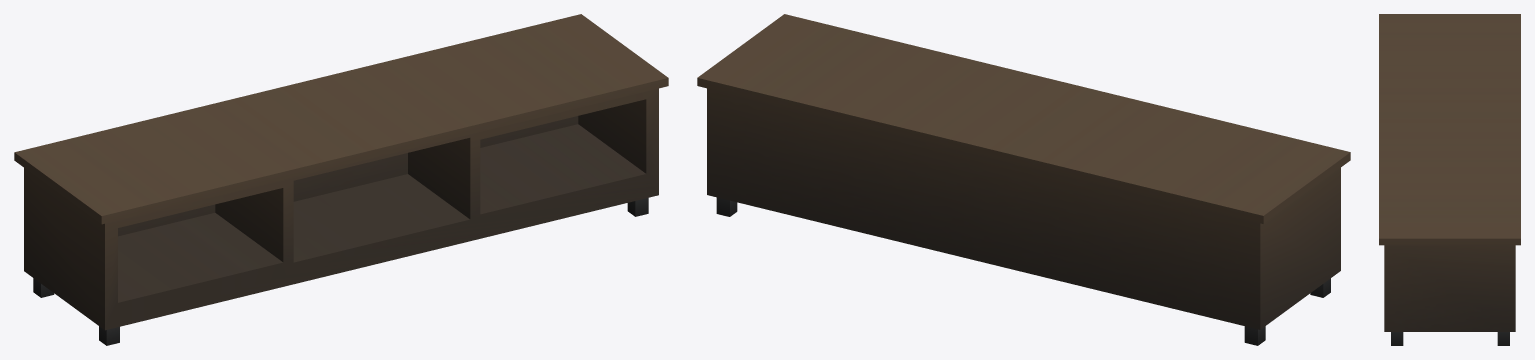
File: SideboardCabinet_A_Open_Brown.fbx
3 renders of one model, left to right at view 1: azimuth 30°, elevation 25°; view 2: azimuth 150°, elevation 25°; view 3: azimuth 270°, elevation 25°, orthographic. The views are drawn at different scales.
Parts seen in each view (by area): view 1: SideboardCabinet_A_Open_Brown; view 2: SideboardCabinet_A_Open_Brown; view 3: SideboardCabinet_A_Open_Brown.
Boxes of the visible parts, bbox=[...] form: SideboardCabinet_A_Open_Brown: bbox=[14, 14, 668, 345]; SideboardCabinet_A_Open_Brown: bbox=[697, 14, 1350, 345]; SideboardCabinet_A_Open_Brown: bbox=[1379, 14, 1520, 345].
Bounding box in the file's own units: 300 × 69.86 × 80.
